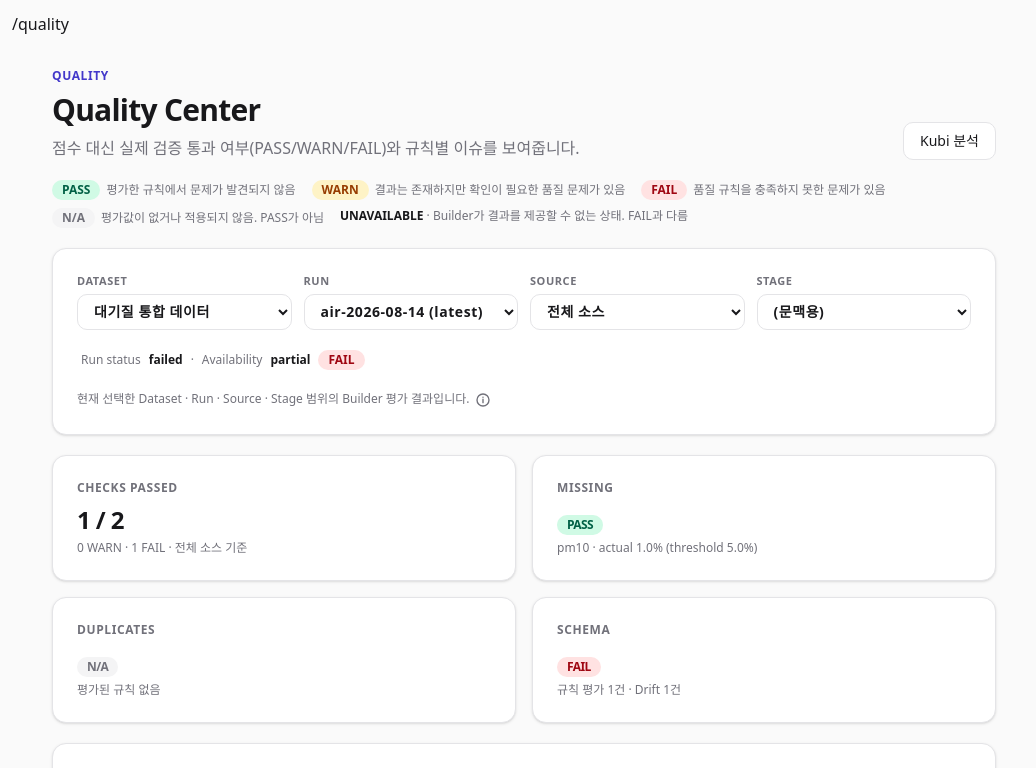
Quality Center P0 (#254) › scopes Checks Passed to the selected source only, with its own denominator
Select "kma__weather" in the dropdown named "Source 선택" at (637, 312), box [530,294,744,330]
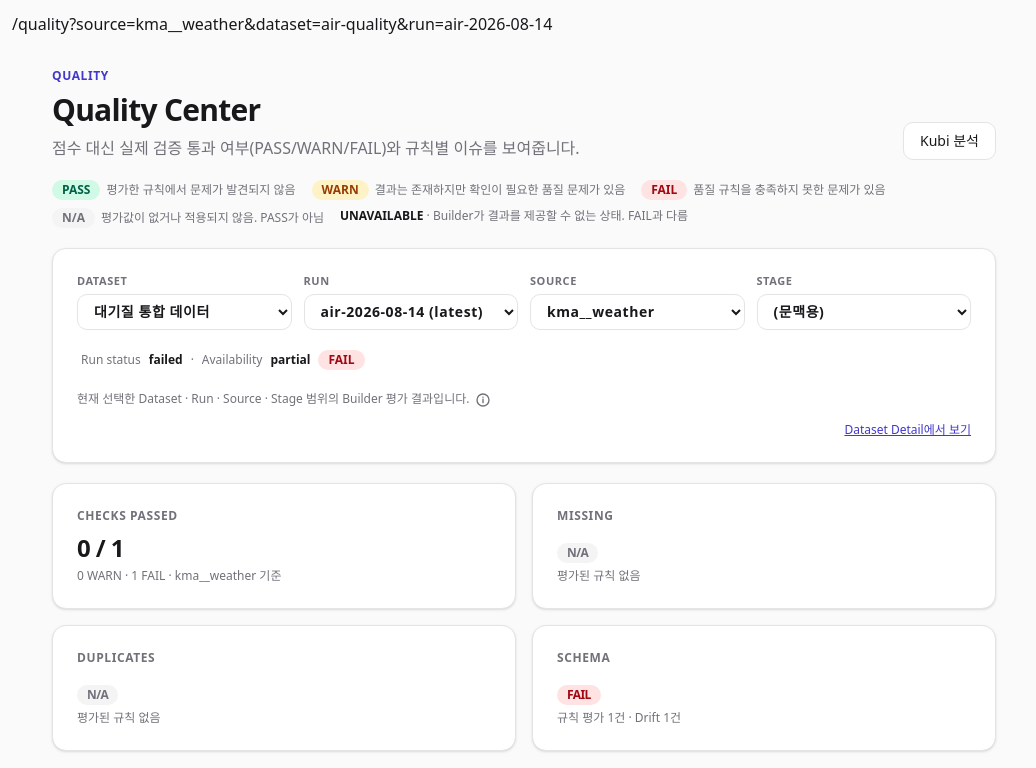
expect the text "0 / 1" is shown: met, box [77,530,124,564]
